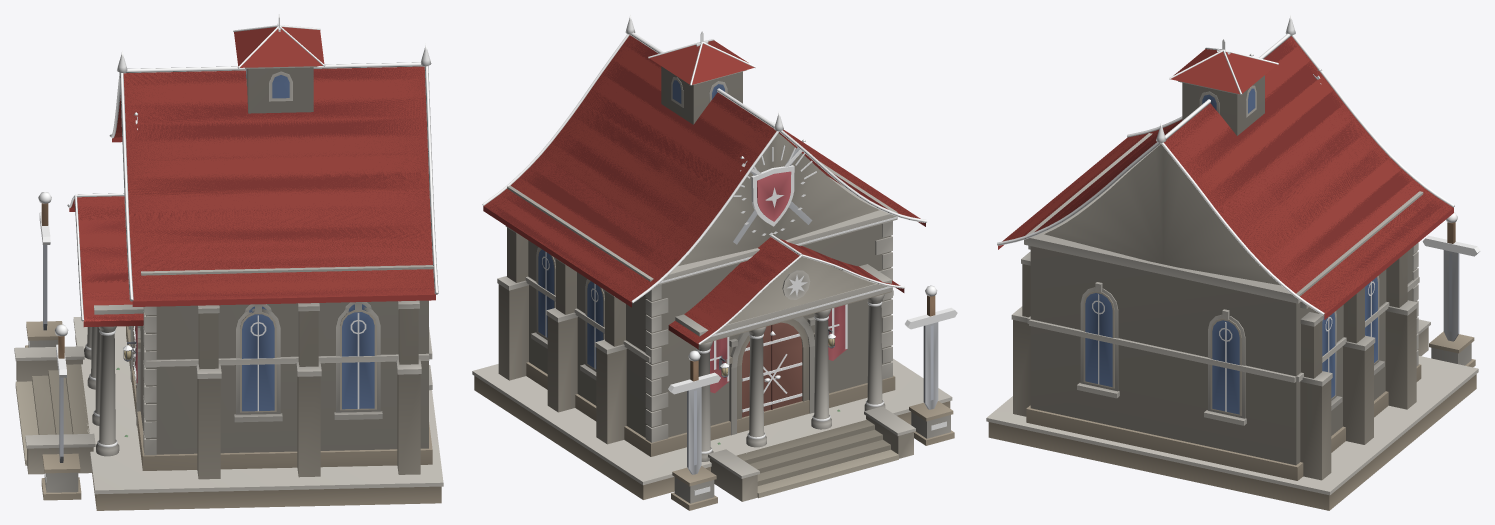
The model's file is sword_hq.glb.
3 renders of one model, left to right at view 1: azimuth 30°, elevation 25°; view 2: azimuth 150°, elevation 25°; view 3: azimuth 270°, elevation 25°, orthographic. The views are drawn at different scales.
Parts seen in each view (by area): view 1: Sword_stone, Sword_roof, Sword_props, Sword_gold; view 2: Sword_stone, Sword_roof, Sword_props, Sword_gold; view 3: Sword_stone, Sword_roof, Sword_props, Sword_gold.
Boxes of the visible parts, box(x1,y1,x2,y2) form: Sword_stone: box(14, 66, 443, 510); Sword_roof: box(69, 27, 435, 326); Sword_props: box(41, 69, 374, 462); Sword_gold: box(28, 14, 438, 482); Sword_stone: box(472, 66, 954, 510); Sword_roof: box(483, 35, 925, 349); Sword_props: box(538, 80, 938, 474); Sword_gold: box(482, 14, 957, 495); Sword_stone: box(986, 75, 1478, 510); Sword_roof: box(998, 36, 1453, 319); Sword_props: box(1085, 74, 1459, 414); Sword_gold: box(997, 15, 1480, 411).
Size of the model in its own units: 15.31 by 12.99 by 15.25.
